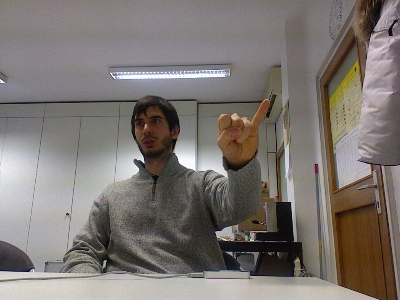小指: (214, 96, 271, 164)
